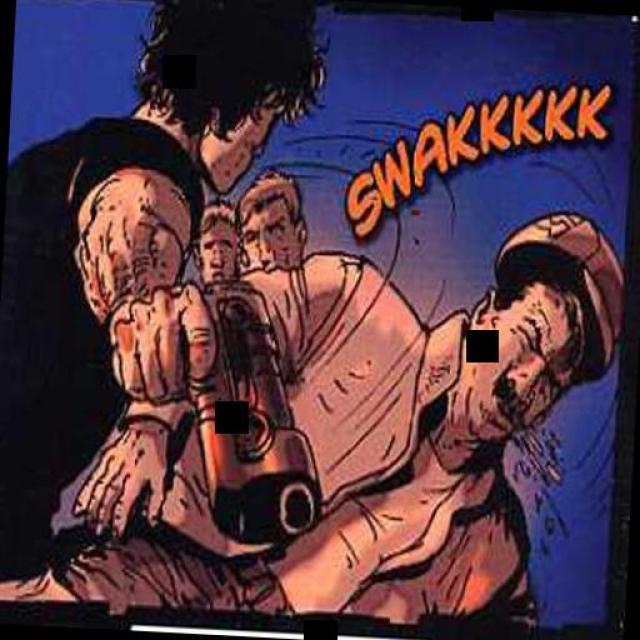gun: (68, 265, 332, 541)
